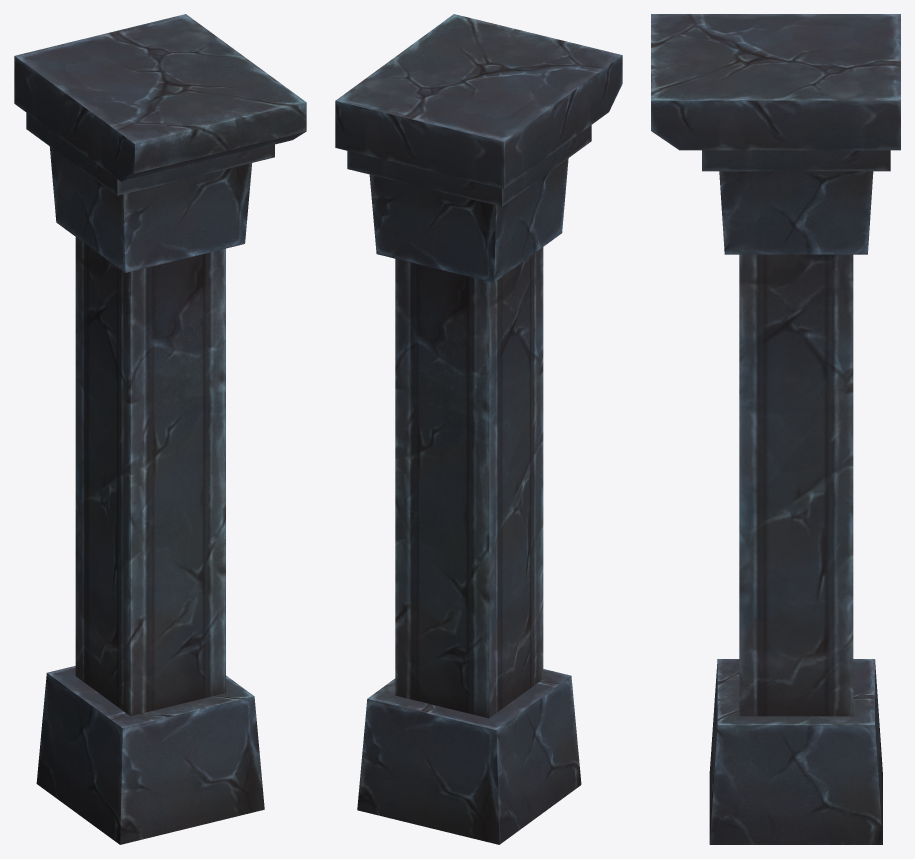
The model's file is Z_zhuzi.fbx.
3 renders of one model, left to right at view 1: azimuth 30°, elevation 25°; view 2: azimuth 150°, elevation 25°; view 3: azimuth 270°, elevation 25°, orthographic. The views are drawn at different scales.
Visible parts, largest first — view 1: Z_zhuzi; view 2: Z_zhuzi; view 3: Z_zhuzi.
Part boxes in pixels (bbox=[...]): Z_zhuzi: bbox=[14, 14, 306, 844]; Z_zhuzi: bbox=[335, 14, 622, 844]; Z_zhuzi: bbox=[651, 14, 900, 844].
Bounding box in the file's own units: 136 × 550 × 166.
